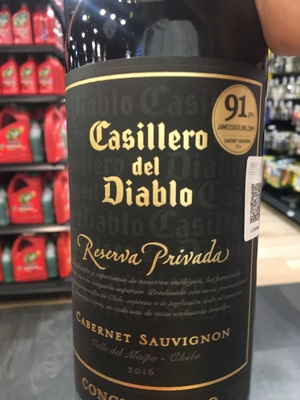casillero del diablo reserva privada cabernet sauvignon: (64, 3, 267, 400)
